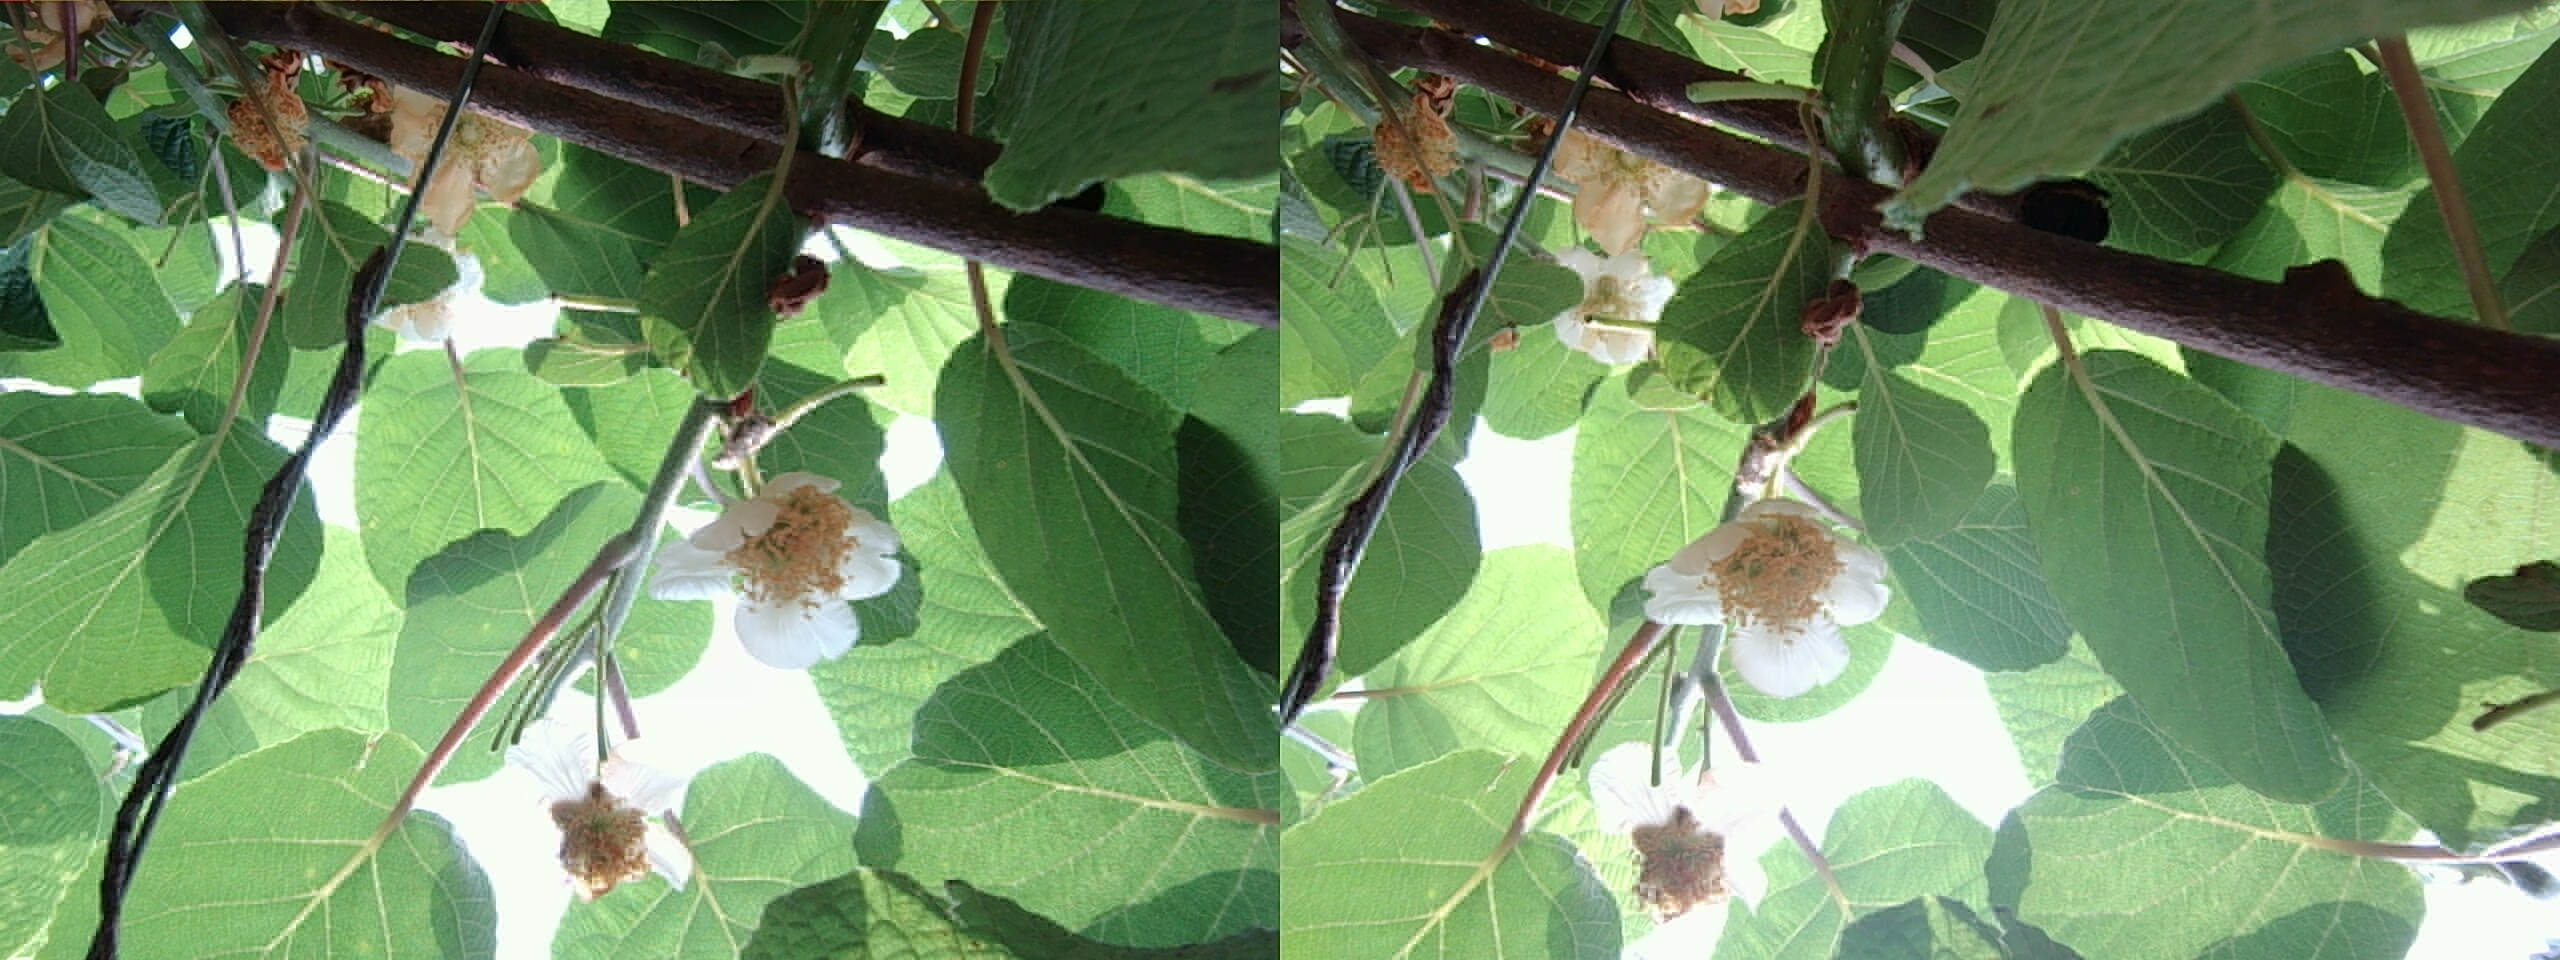flower: (668, 464, 914, 663), (1646, 500, 1887, 694), (526, 754, 691, 893)
